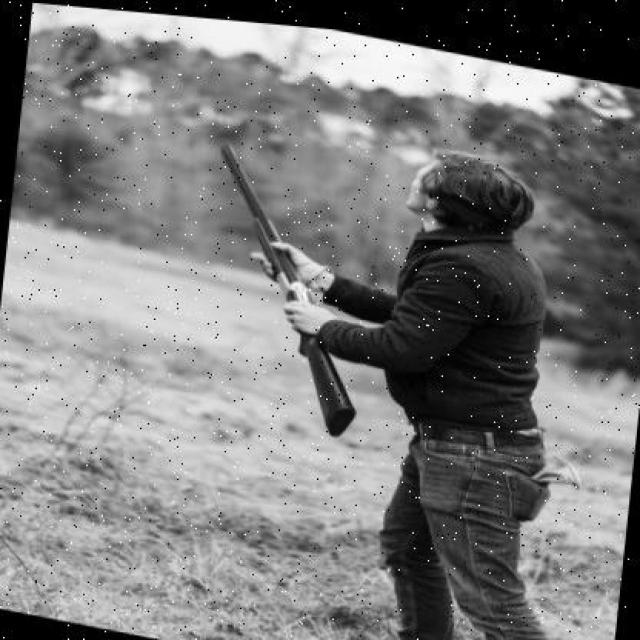weapon: (218, 141, 356, 440)
